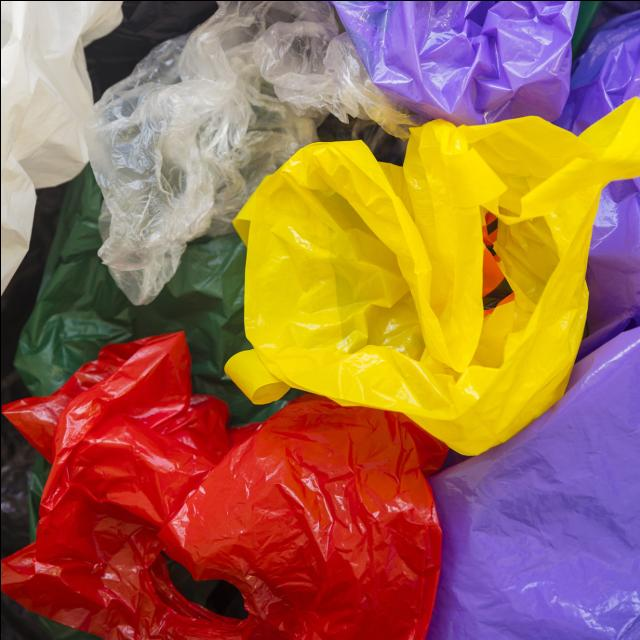plastik: (226, 98, 640, 454), (0, 331, 447, 640), (85, 0, 414, 304), (14, 166, 283, 425), (425, 326, 640, 640), (0, 0, 122, 295), (331, 0, 579, 124), (579, 176, 640, 354), (555, 8, 640, 133)
